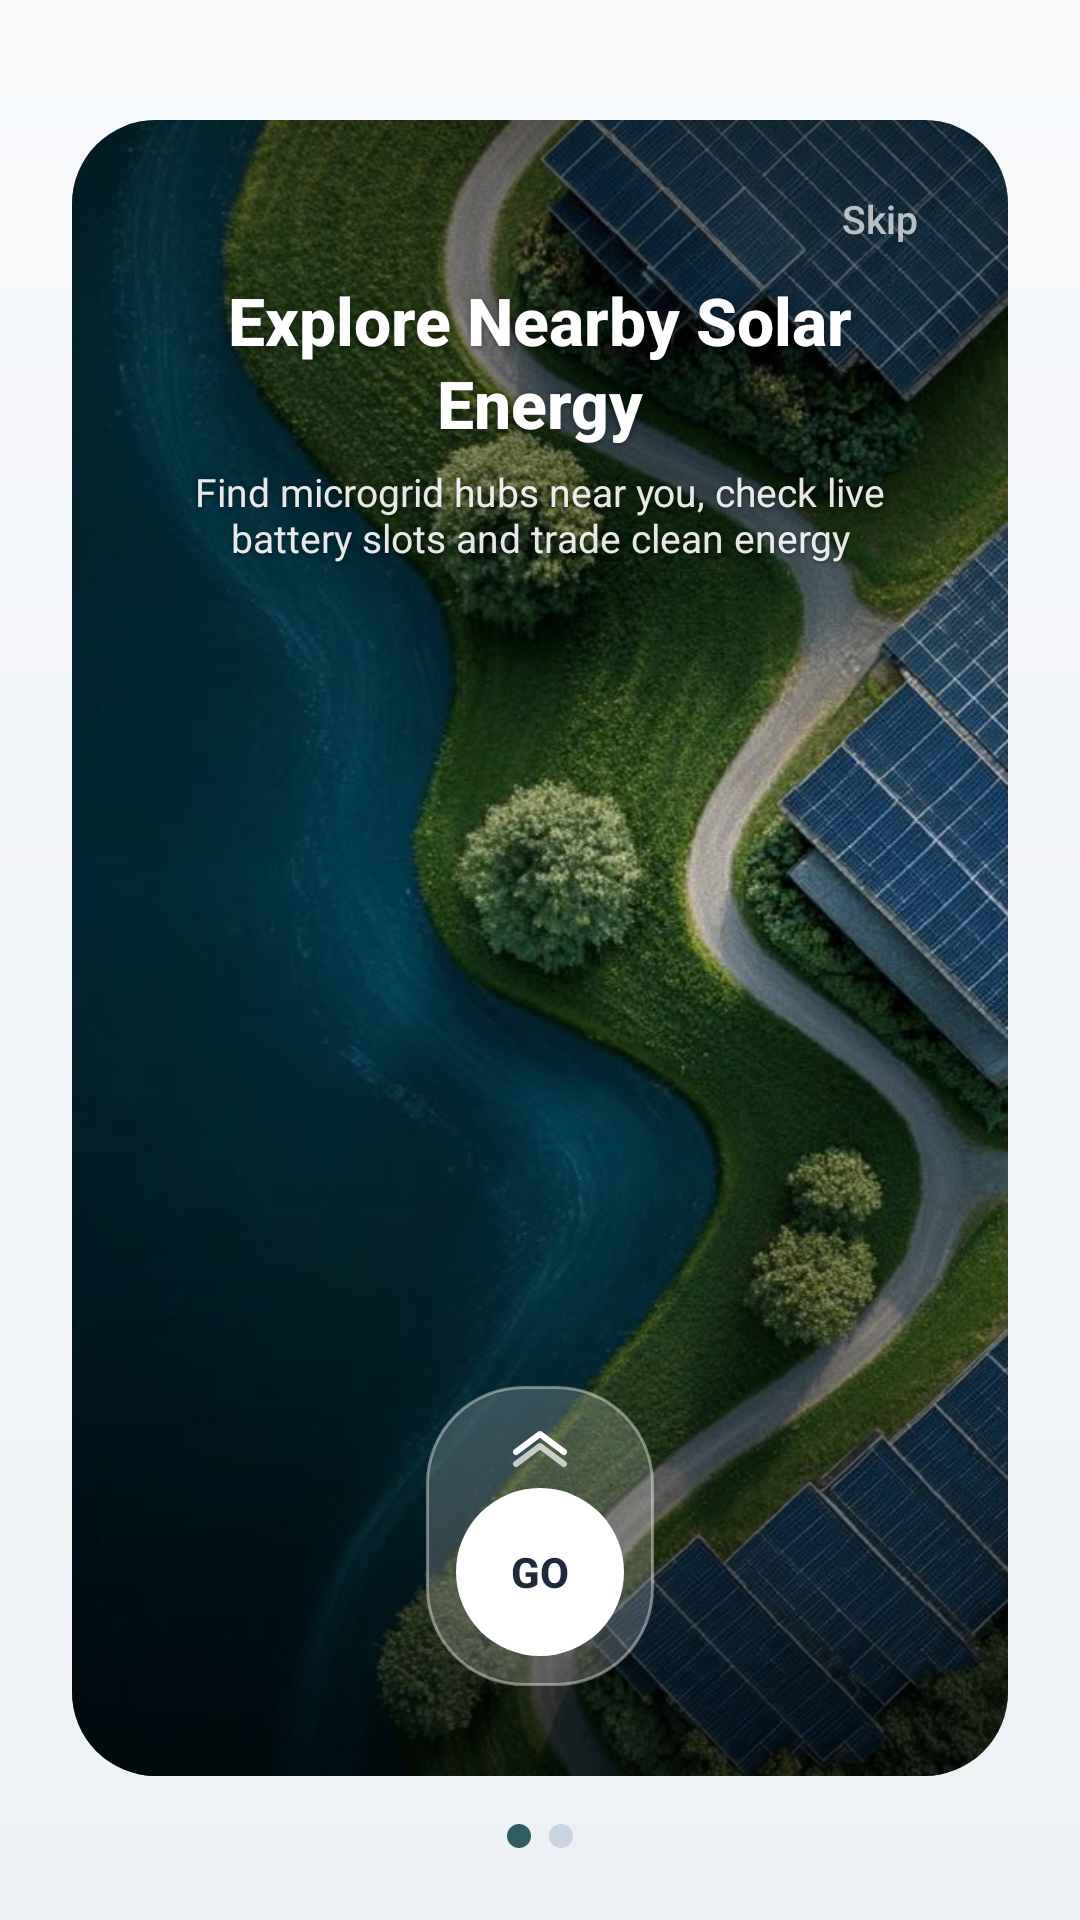

Where to tap for icons on this 1080px×1920px app screen, as point (x, y):
Next: point (544, 1446)
